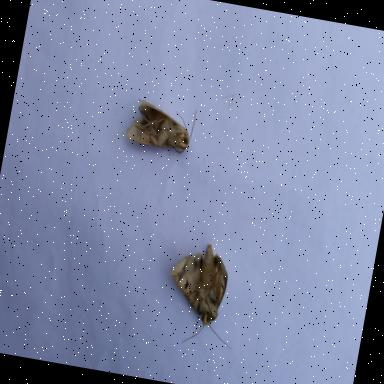abw: (158, 236, 250, 353), (122, 92, 200, 157)
